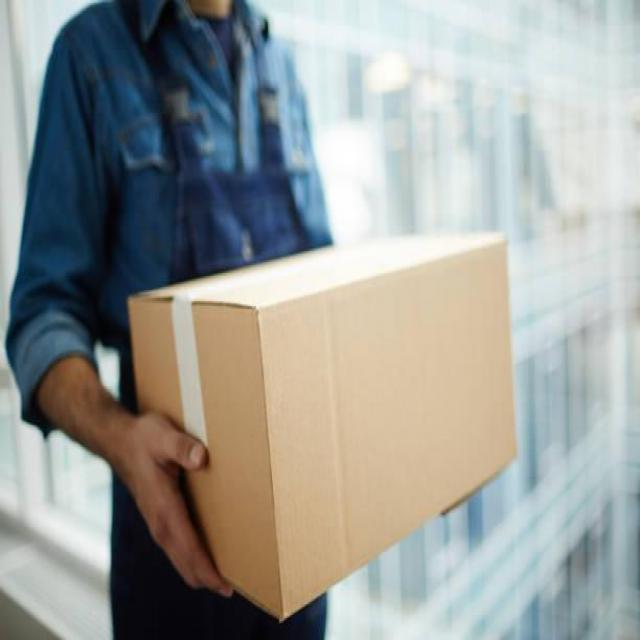box: (123, 226, 517, 626)
